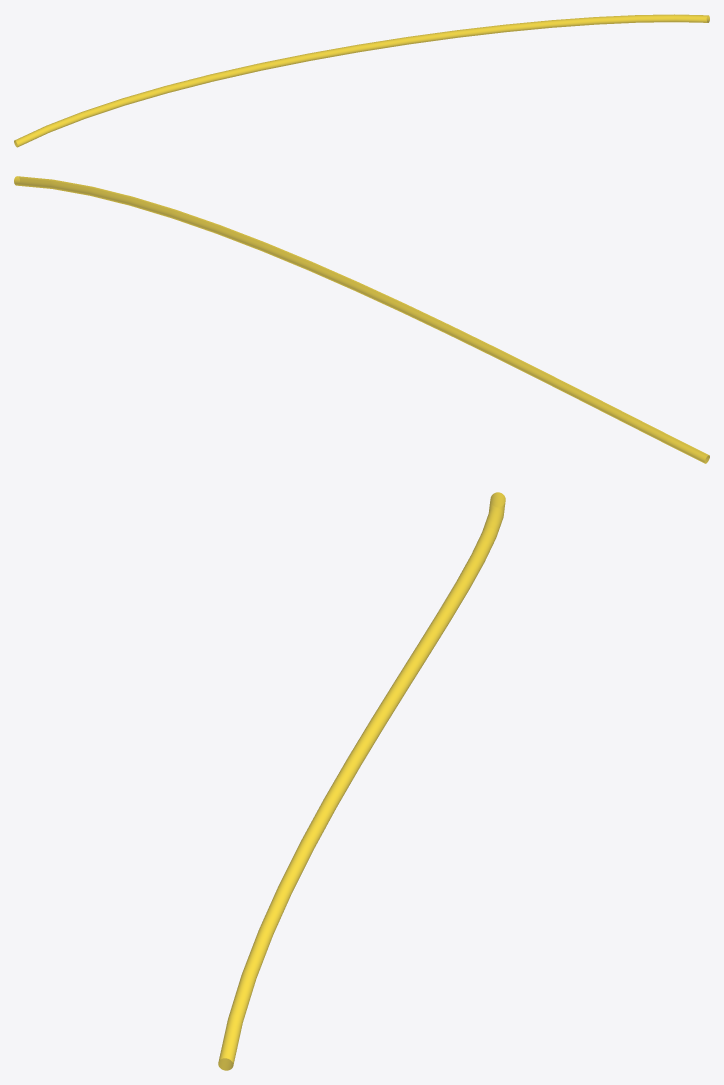
File: Event_31209032_track_31.fbx
The picture shows the model from 3 angles, top to bottom: view 1: azimuth 30°, elevation 25°; view 2: azimuth 150°, elevation 25°; view 3: azimuth 270°, elevation 25°; orthographic projection. The views are drawn at different scales.
Parts seen in each view (by area): view 1: Model; view 2: Model; view 3: Model.
Boxes of the visible parts, box(x1,y1,x2,y2) form: Model: box(14, 14, 709, 147); Model: box(14, 176, 709, 463); Model: box(218, 492, 505, 1070).
Bounding box in the file's own units: 3.75 × 0.2871 × 0.7467.
